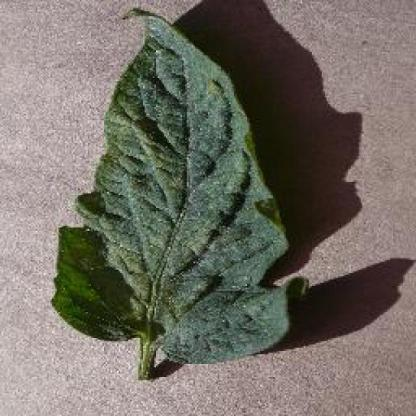Tomato_Spider_Mites: (56, 10, 304, 357)
